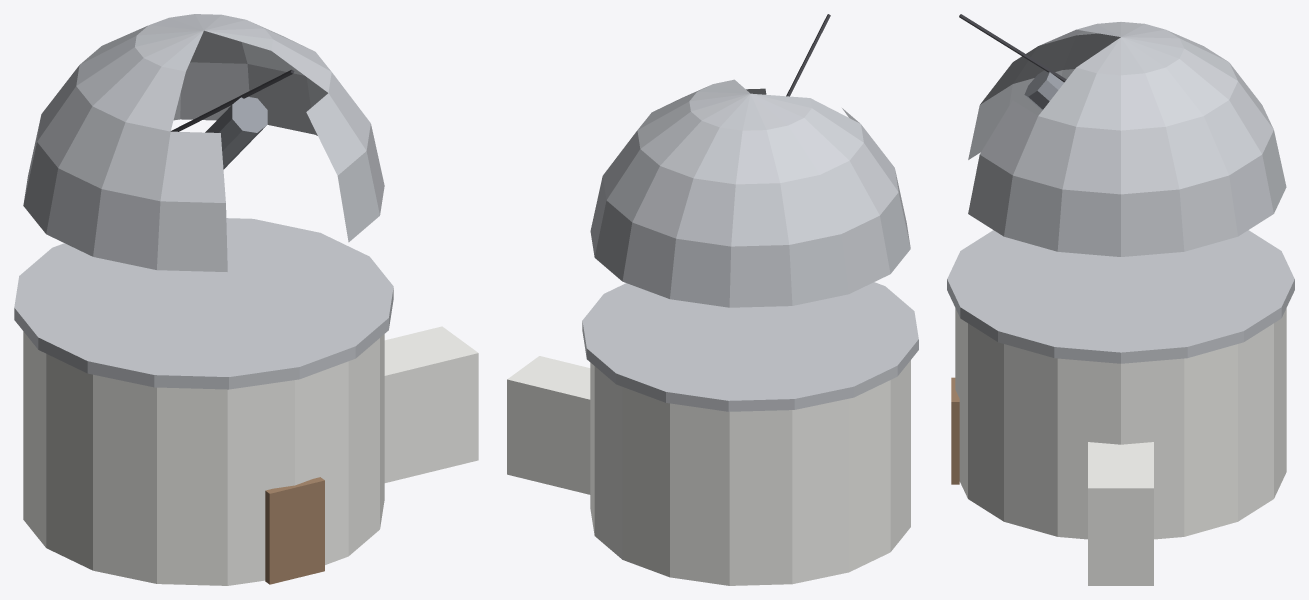
The model's file is observatory.glb.
3 views of the same model, side by side, from view 1: azimuth 30°, elevation 25°; view 2: azimuth 150°, elevation 25°; view 3: azimuth 270°, elevation 25° (orthographic). The views are drawn at different scales.
Visible parts, largest first — view 1: observatory, cupola; view 2: observatory, cupola; view 3: observatory, cupola.
Part boxes in pixels (x1,y1,x2,y2): observatory: (14, 218, 478, 585); cupola: (23, 14, 384, 271); observatory: (507, 282, 918, 585); cupola: (590, 14, 910, 307); observatory: (947, 230, 1294, 585); cupola: (959, 14, 1286, 256).
Bounding box in the file's own units: 10.7 × 12.22 × 8.4.
